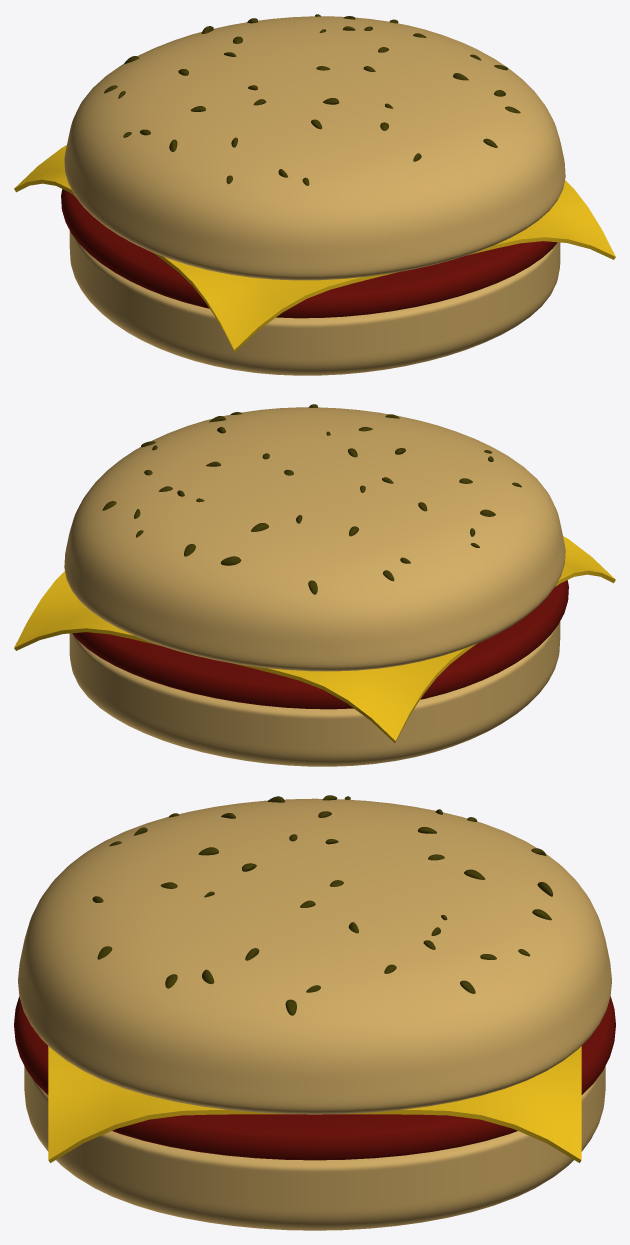
File: humburger.glb
3 views of the same model, one above another, from view 1: azimuth 30°, elevation 25°; view 2: azimuth 150°, elevation 25°; view 3: azimuth 270°, elevation 25° (orthographic). The views are drawn at different scales.
Visible parts, largest first — view 1: Cube.002, Cube, Cube.001, Plane; view 2: Cube.002, Cube, Cube.001, Plane; view 3: Cube.002, Cube, Cube.001, Plane.
Boxes of the visible parts, x1,y1,x2,y2 form: Cube.002: (64,16,565,280); Cube: (69,230,560,375); Cube.001: (61,189,557,318); Plane: (14,145,615,351); Cube.002: (64,407,565,671); Cube: (69,621,560,766); Cube.001: (72,580,568,709); Plane: (14,536,615,742); Cube.002: (18,798,611,1114); Cube: (24,1066,605,1230); Cube.001: (14,996,615,1160); Plane: (48,1046,581,1162).
Bounding box in the file's own units: 9.45 × 4.69 × 9.45.
